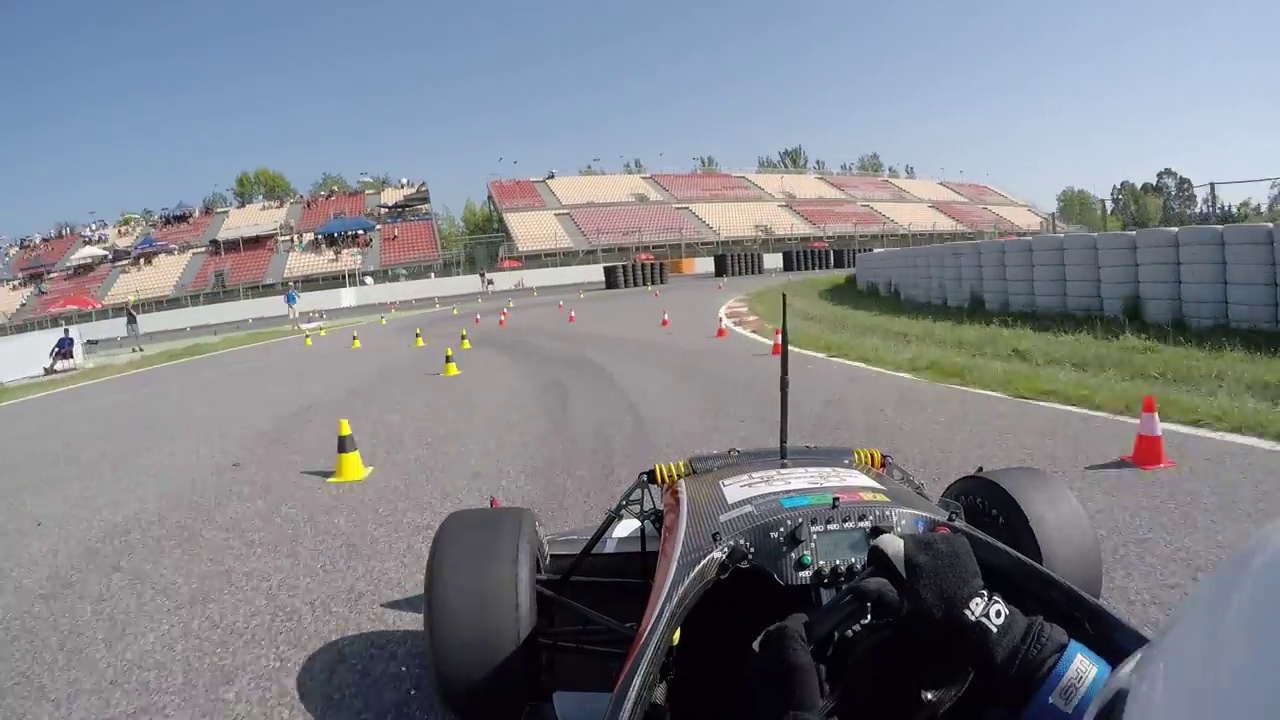Cone: (1126, 391, 1176, 472), (326, 414, 375, 484), (439, 343, 465, 379)
